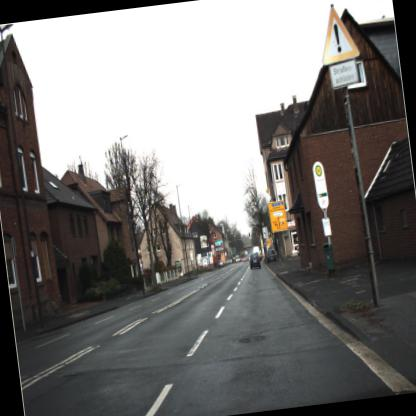danger: (309, 0, 364, 69)
